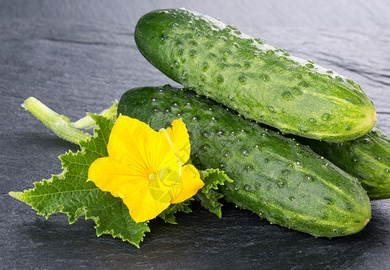cucumber: (135, 6, 376, 125)
cucumber_plant: (11, 101, 203, 241)
